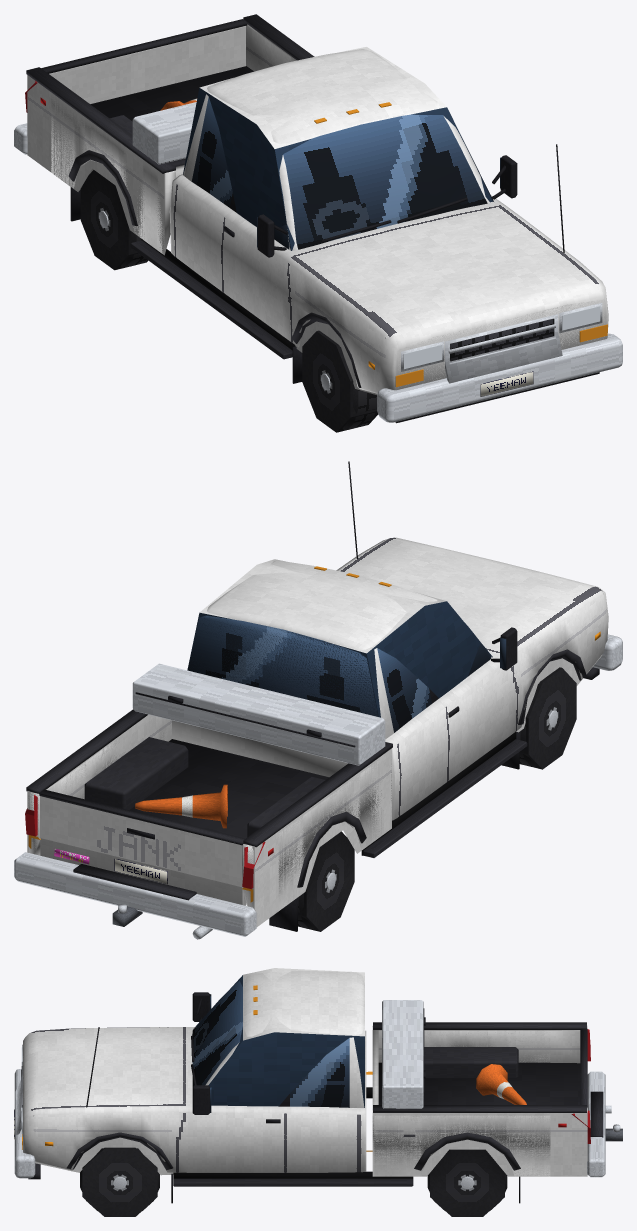
File: p_car_pickup.glb
3 renders of one model, top to bottom at view 1: azimuth 30°, elevation 25°; view 2: azimuth 150°, elevation 25°; view 3: azimuth 270°, elevation 25°, orthographic. The views are drawn at different scales.
Visible parts, largest first — view 1: shell, lod1_mesh, lamps, wheel_fr, inds; view 2: shell, lod1_mesh, tails; view 3: shell, lod1_mesh, wheel_fl, wheel_rl.
Part boxes in pixels (x1,y1,x2,y2): shell: [14, 14, 622, 423]; lod1_mesh: [27, 25, 605, 432]; lamps: [403, 306, 600, 369]; wheel_fr: [320, 334, 377, 430]; inds: [314, 102, 607, 387]; shell: [14, 461, 622, 939]; lod1_mesh: [27, 545, 603, 931]; tails: [25, 795, 265, 889]; shell: [14, 971, 622, 1203]; lod1_mesh: [33, 968, 587, 1216]; wheel_fl: [80, 1148, 159, 1210]; wheel_rl: [427, 1173, 507, 1211].
Bounding box in the file's own units: 2.17 × 1.99 × 5.84.
Materials: 6 (3 with a texture image).
